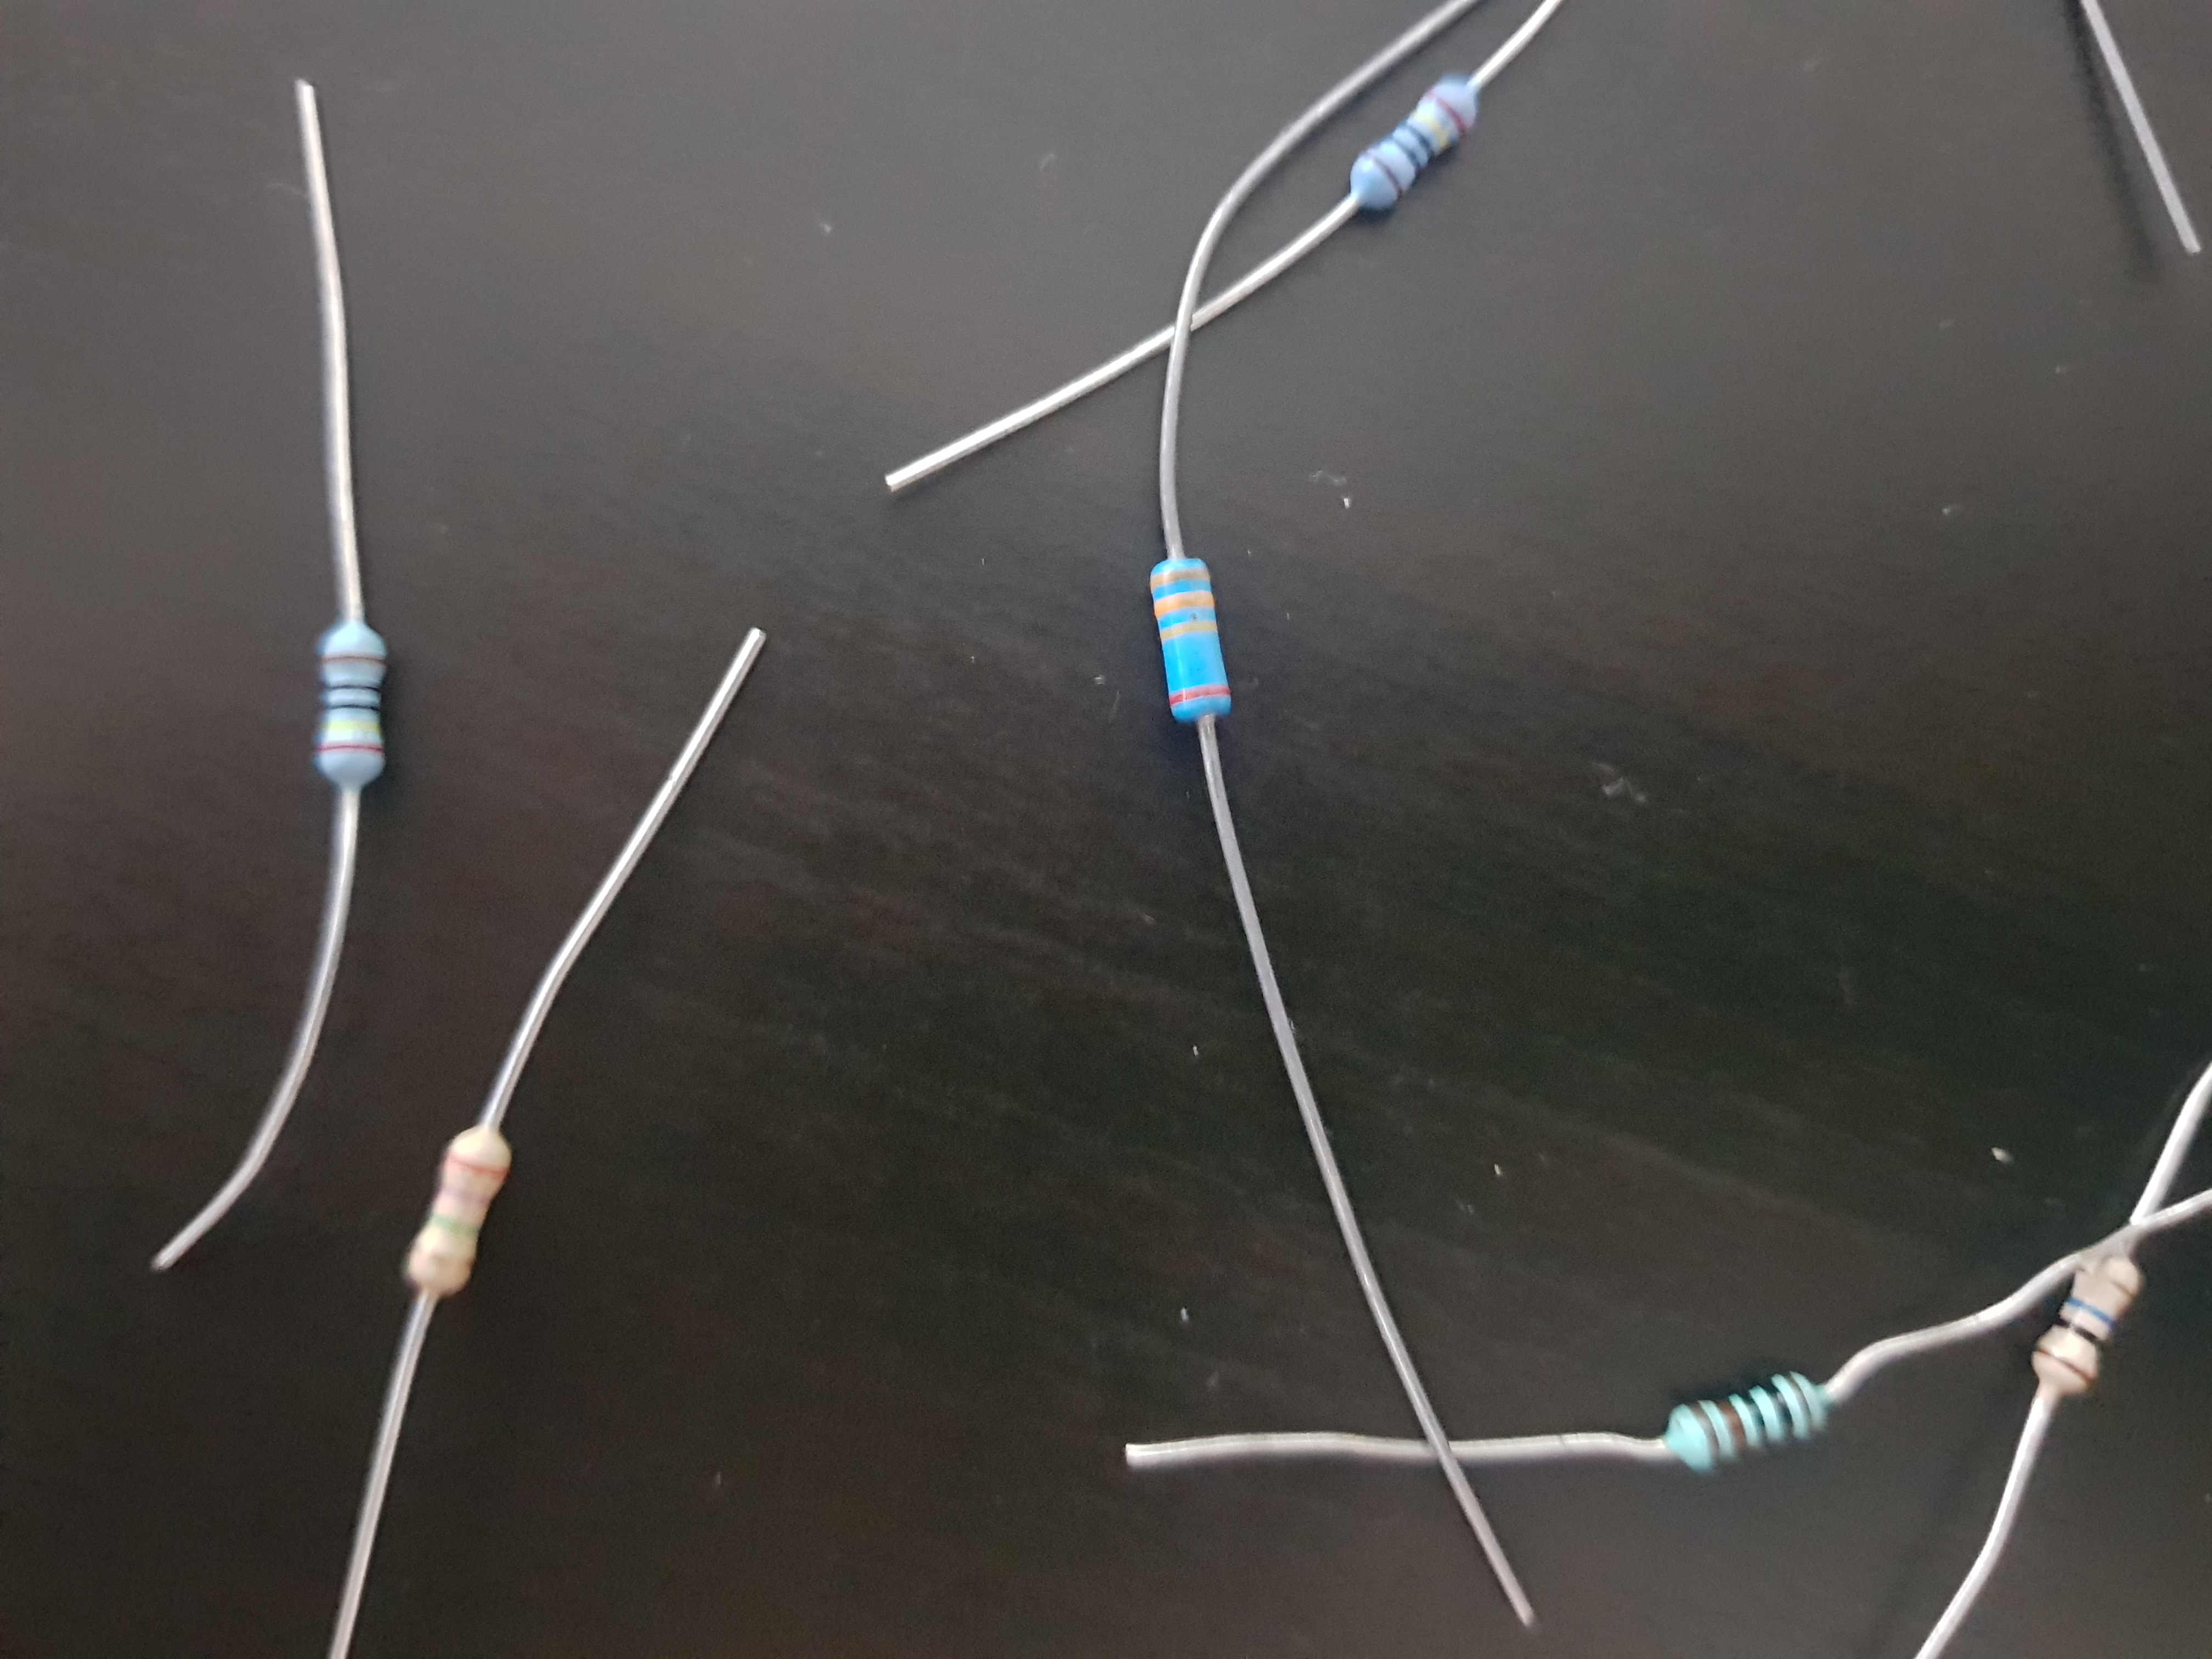resistor: (1062, 450, 1325, 812), (1592, 1281, 1904, 1567), (1249, 23, 1562, 301), (345, 1011, 594, 1358), (246, 582, 484, 878), (1984, 1178, 2167, 1507)
